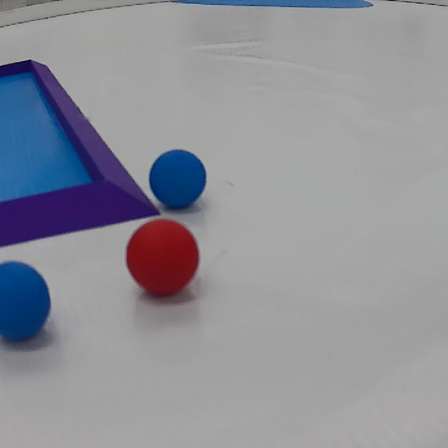blue: (0, 252, 54, 346), (149, 147, 210, 211)
blue_aim: (0, 50, 164, 246)
red: (125, 219, 203, 295)
